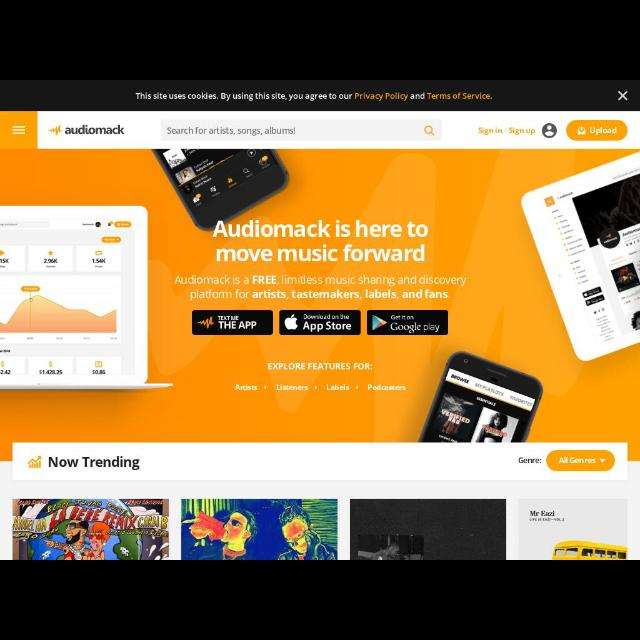backgroundimage: (1, 150, 639, 462)
button: (0, 112, 36, 150)
icon: (540, 123, 558, 139), (12, 124, 26, 136), (30, 456, 42, 468), (424, 125, 436, 136), (618, 90, 630, 100), (502, 124, 508, 138)
image: (182, 498, 338, 560), (350, 498, 506, 560), (12, 500, 168, 560), (516, 498, 628, 558), (38, 114, 140, 150)
input: (161, 120, 443, 140)
link: (426, 90, 496, 102), (354, 90, 410, 102)
text: (212, 218, 430, 264), (177, 274, 468, 302), (134, 90, 496, 102), (234, 383, 408, 393), (48, 456, 142, 470), (266, 362, 374, 372), (165, 126, 297, 134), (508, 125, 536, 136), (520, 456, 542, 466), (477, 126, 503, 134)
textbutton: (367, 311, 449, 335), (193, 310, 273, 334), (280, 310, 360, 334), (546, 450, 614, 472), (567, 120, 627, 142)
toolbar: (1, 112, 639, 150)
